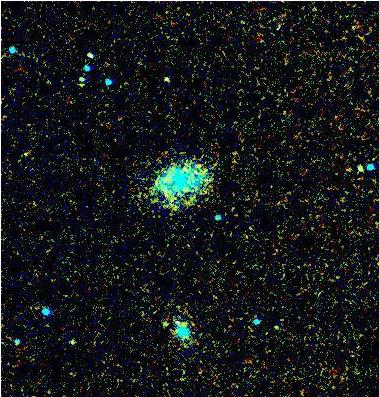star: (151, 66, 181, 96)
